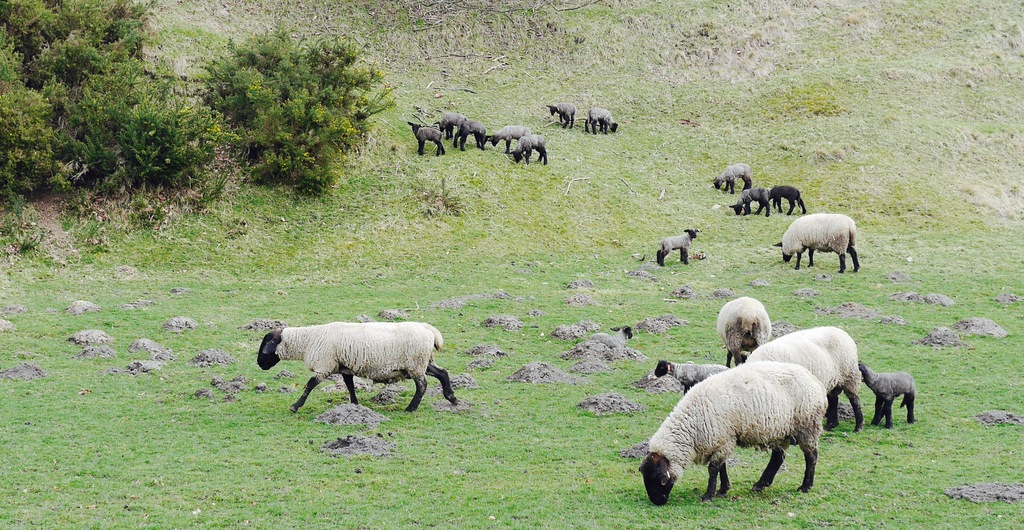sheep: (640, 360, 827, 506), (255, 322, 453, 412), (773, 215, 858, 274), (655, 228, 696, 264), (730, 188, 769, 214), (772, 187, 805, 213), (588, 109, 616, 133), (545, 103, 574, 126)
